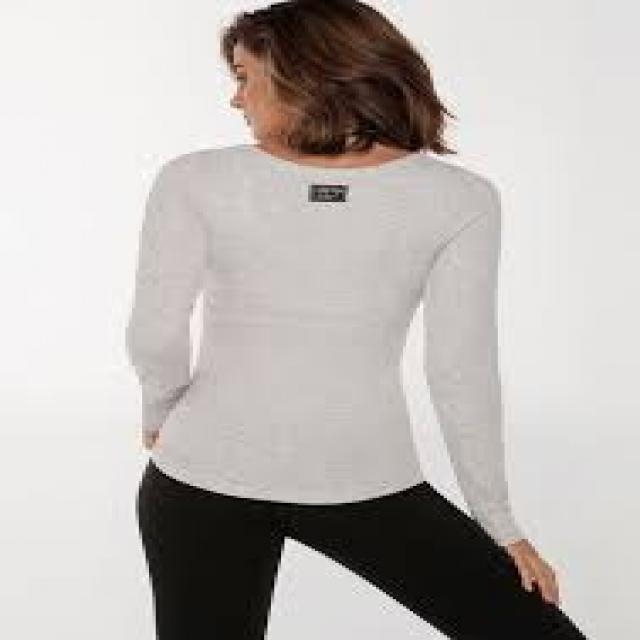plain: (127, 137, 521, 509)
